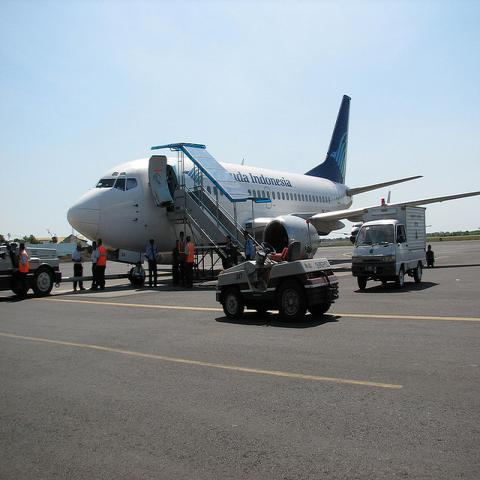truck: (350, 207, 426, 290), (0, 233, 62, 296)
